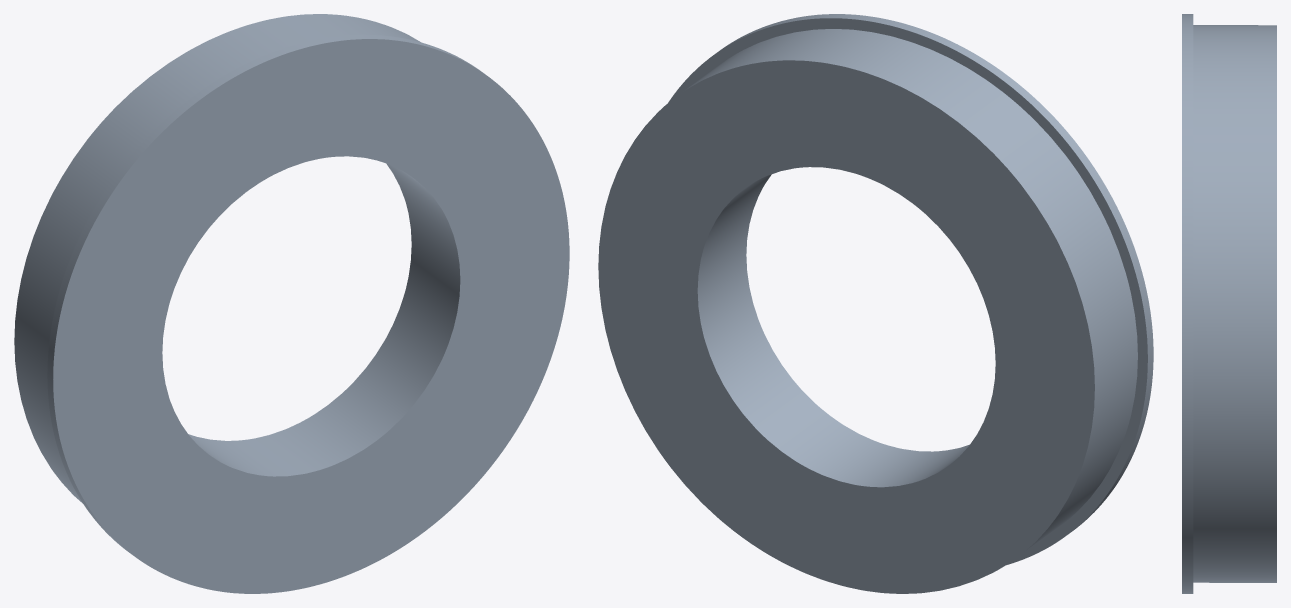
The model's file is crank_shaft_bushing.obj.
3 views of the same model, side by side, from view 1: azimuth 30°, elevation 25°; view 2: azimuth 150°, elevation 25°; view 3: azimuth 270°, elevation 25° (orthographic). The views are drawn at different scales.
Parts seen in each view (by area): view 1: 1; view 2: 1; view 3: 1.
Part boxes in pixels (box(x1,y1,x2,y2)): 1: box(14, 14, 569, 593); 1: box(598, 14, 1153, 593); 1: box(1182, 14, 1276, 593).
Size of the model in its own units: 132 by 132 by 21.59.
